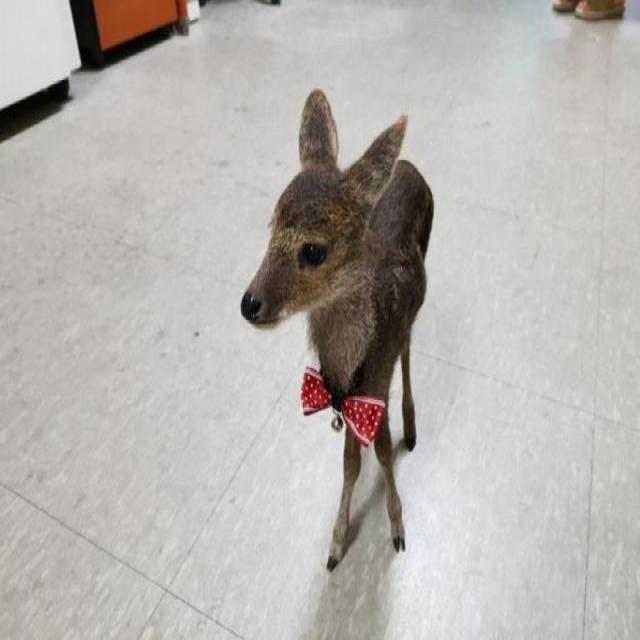deer: (240, 69, 452, 608)
